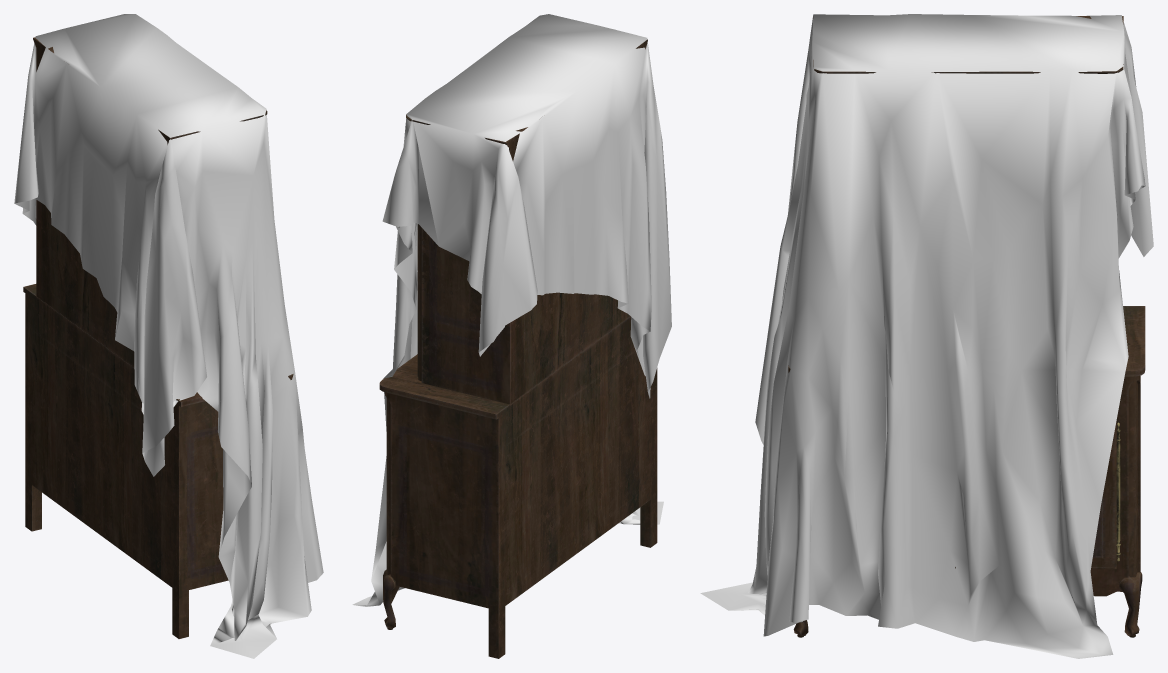
File: Cabinet.fbx
3 renders of one model, left to right at view 1: azimuth 30°, elevation 25°; view 2: azimuth 150°, elevation 25°; view 3: azimuth 270°, elevation 25°, orthographic. The views are drawn at different scales.
Parts seen in each view (by area): view 1: SM_CabinetCover_LOD0; view 2: SM_CabinetCover_LOD0; view 3: SM_CabinetCover_LOD0.
Boxes of the visible parts, x1,y1,x2,y2 form: SM_CabinetCover_LOD0: (14, 14, 323, 658); SM_CabinetCover_LOD0: (352, 14, 671, 658); SM_CabinetCover_LOD0: (700, 14, 1153, 658).
Size of the model in its own units: 93.49 by 250 by 183.
